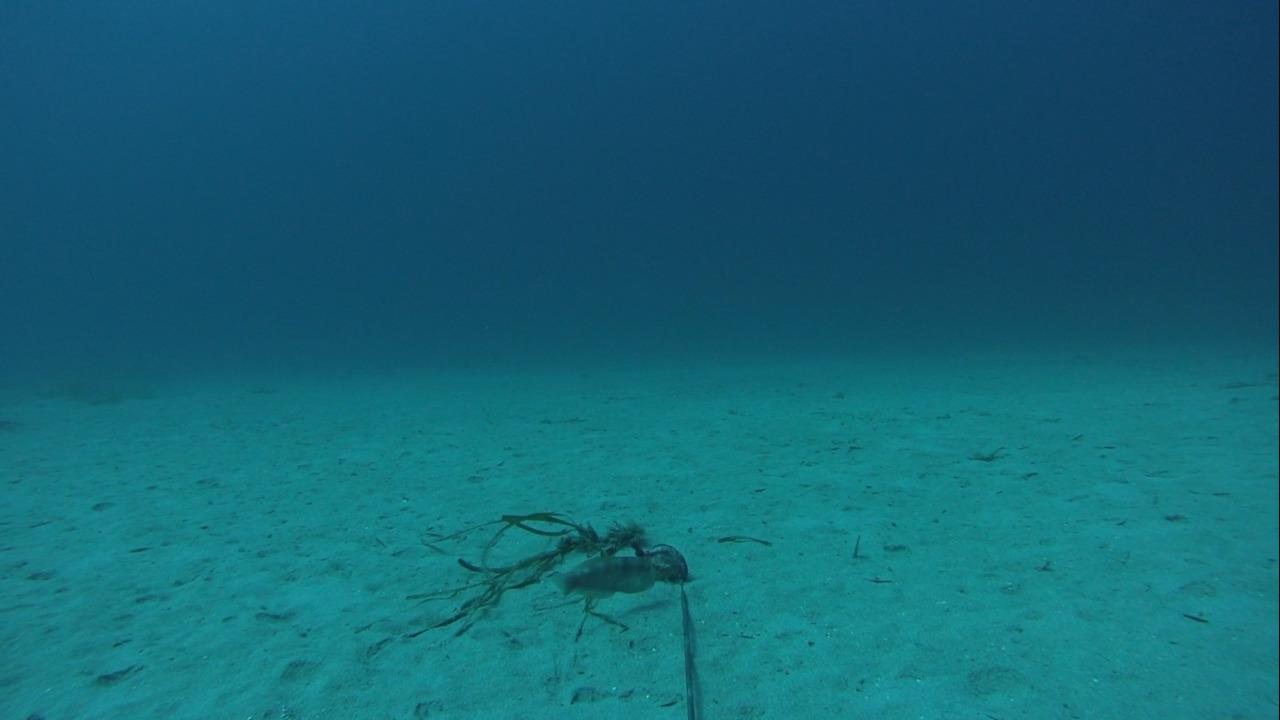raor: (551, 553, 662, 603)
